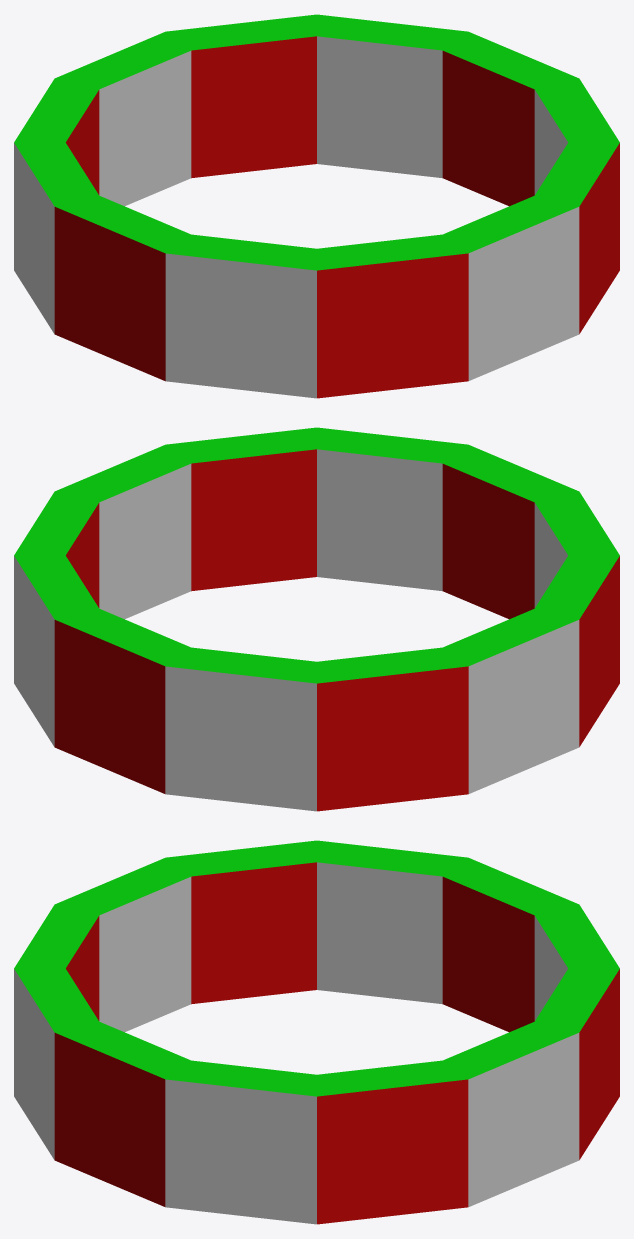
File: cyrcularstall.fbx
The picture shows the model from 3 angles, top to bottom: view 1: azimuth 30°, elevation 25°; view 2: azimuth 150°, elevation 25°; view 3: azimuth 270°, elevation 25°; orthographic projection.
Parts seen in each view (by area): view 1: Cylinder; view 2: Cylinder; view 3: Cylinder.
Part boxes in pixels (x1,y1,x2,y2): Cylinder: (14,14,619,398); Cylinder: (14,427,619,811); Cylinder: (14,840,619,1224).
Bounding box in the file's own units: 1082 × 252 × 1082.
